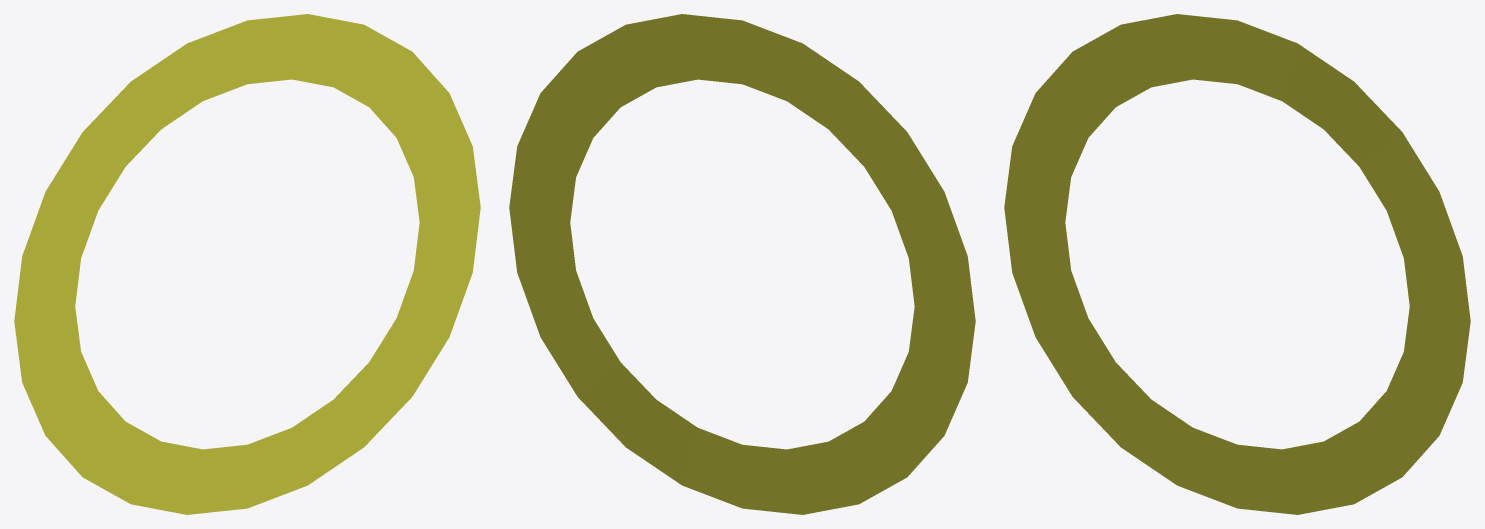
File: Sun_Ring.fbx
The picture shows the model from 3 angles, left to right: view 1: azimuth 30°, elevation 25°; view 2: azimuth 150°, elevation 25°; view 3: azimuth 330°, elevation 25°; orthographic projection.
Parts seen in each view (by area): view 1: Sun Ring; view 2: Sun Ring; view 3: Sun Ring.
Boxes of the visible parts, bbox=[...] form: Sun Ring: bbox=[14, 14, 480, 514]; Sun Ring: bbox=[509, 14, 975, 514]; Sun Ring: bbox=[1004, 14, 1470, 514].
Bounding box in the file's own units: 0.4662 × 0.4662 × 7.72e-05.
